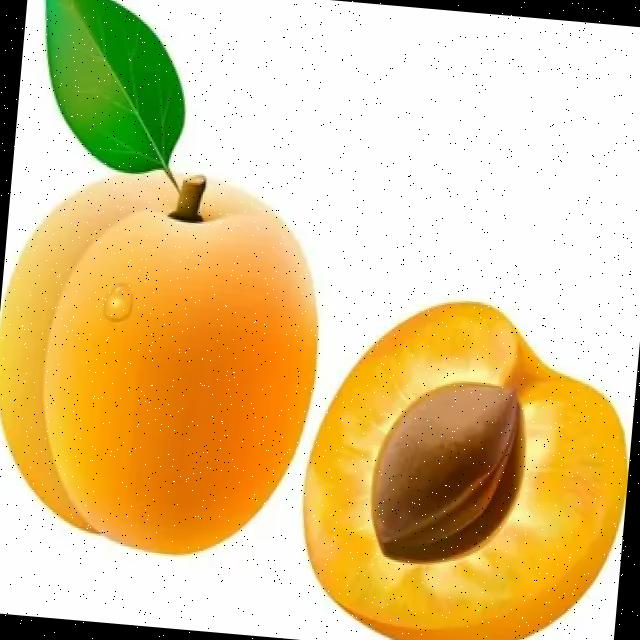Cekirdek: (370, 382, 515, 557)
Kayisi: (44, 209, 316, 551)
Yaprak: (48, 0, 184, 185)
